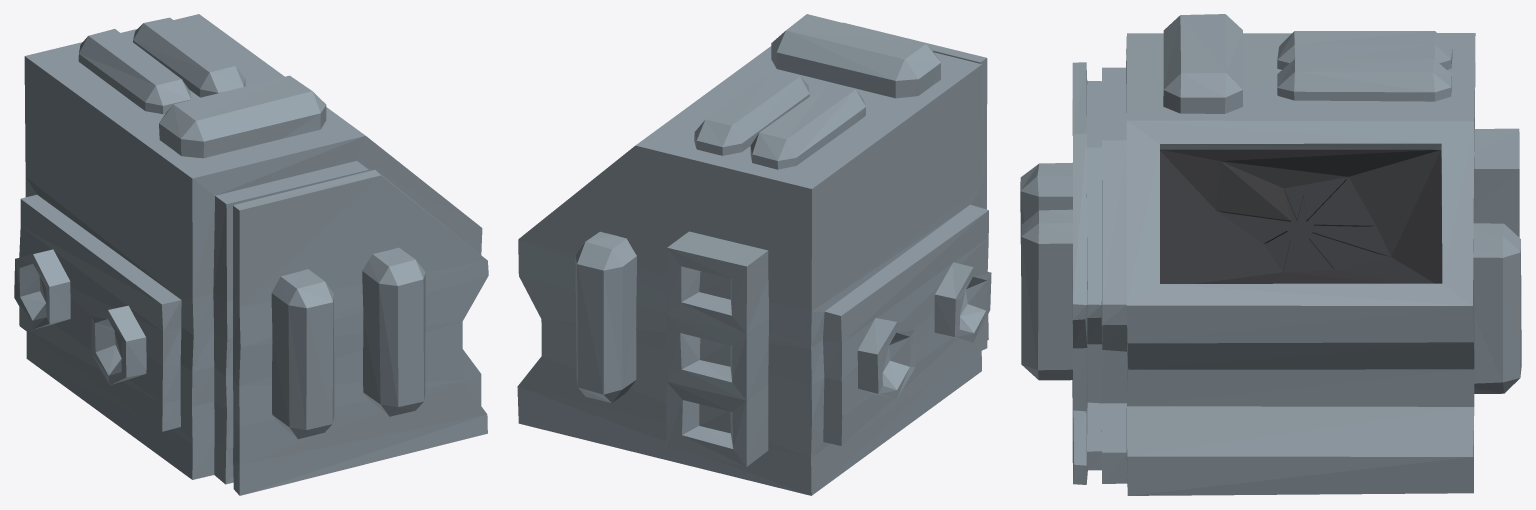
File: Screen_Medium_Floor_Broken.fbx
The picture shows the model from 3 angles, left to right: view 1: azimuth 30°, elevation 25°; view 2: azimuth 150°, elevation 25°; view 3: azimuth 270°, elevation 25°; orthographic projection. The views are drawn at different scales.
Visible parts, largest first — view 1: Screen_Medium_Floor_Broken; view 2: Screen_Medium_Floor_Broken; view 3: Screen_Medium_Floor_Broken.
Part boxes in pixels (x1,y1,x2,y2): Screen_Medium_Floor_Broken: (14,14,488,495); Screen_Medium_Floor_Broken: (517,14,991,495); Screen_Medium_Floor_Broken: (1020,14,1521,495).
Size of the model in its own units: 2.28 by 2.23 by 2.89.
